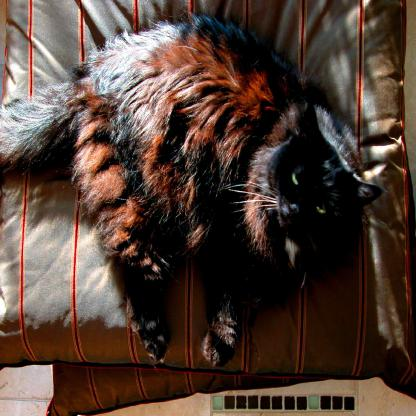cat: (5, 12, 381, 372)
